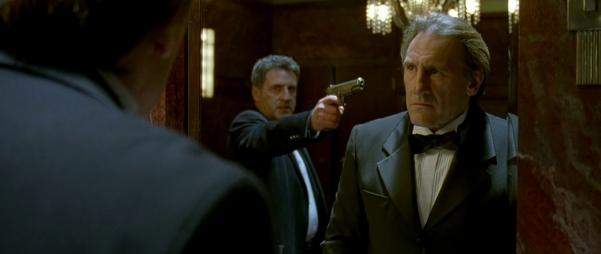Gun: (325, 77, 367, 107)
